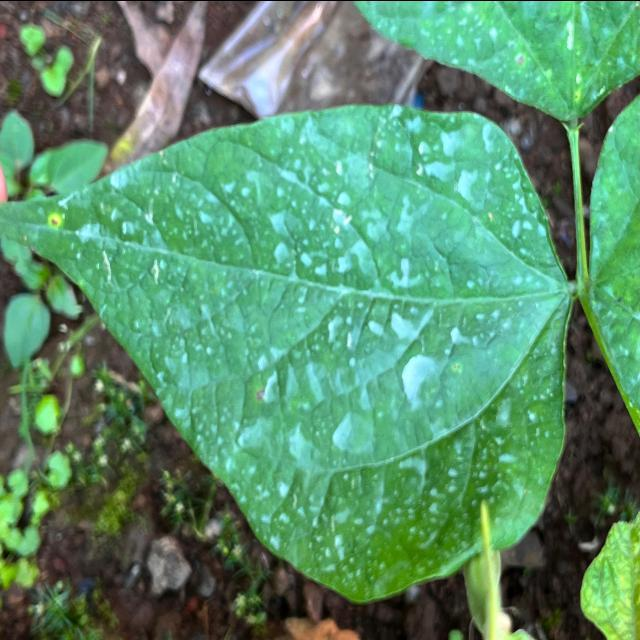embun tepung: (51, 183, 550, 494)
